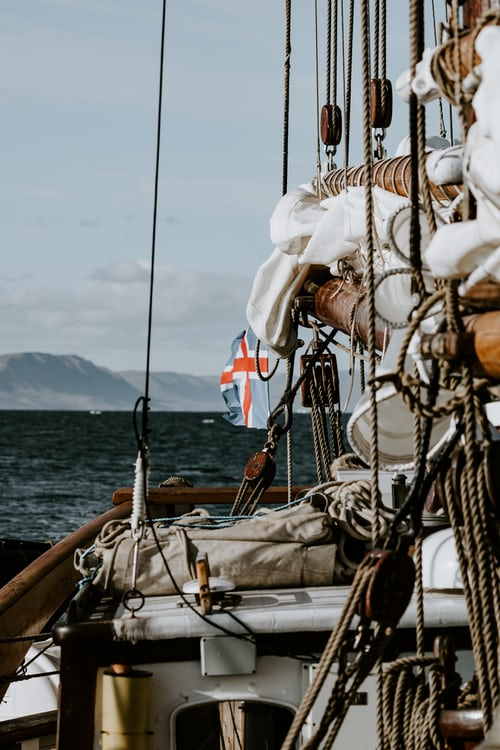yacht: (267, 30, 499, 712)
